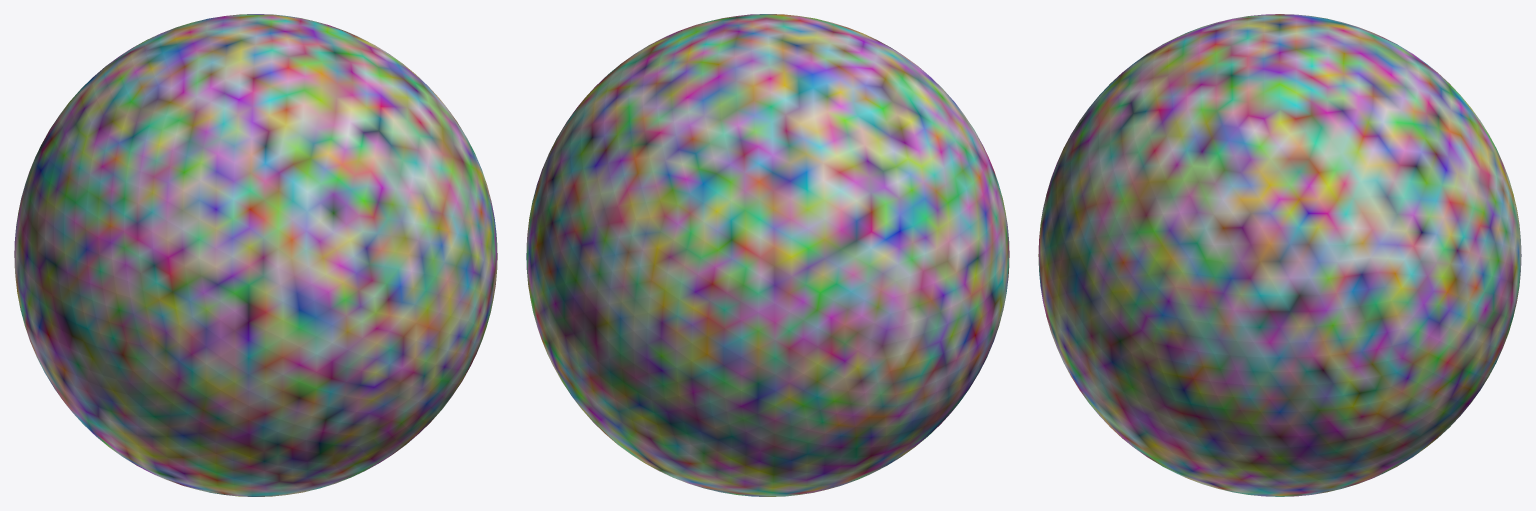
The model's file is sample_heatmap.glb.
3 views of the same model, side by side, from view 1: azimuth 30°, elevation 25°; view 2: azimuth 150°, elevation 25°; view 3: azimuth 270°, elevation 25° (orthographic).
Parts seen in each view (by area): view 1: geometry_0; view 2: geometry_0; view 3: geometry_0.
Boxes of the visible parts, x1=… form: geometry_0: x1=14, y1=14, x2=497, y2=496; geometry_0: x1=526, y1=14, x2=1009, y2=496; geometry_0: x1=1038, y1=14, x2=1521, y2=496.
Bounding box in the file's own units: 0.1 × 0.1 × 0.1.
